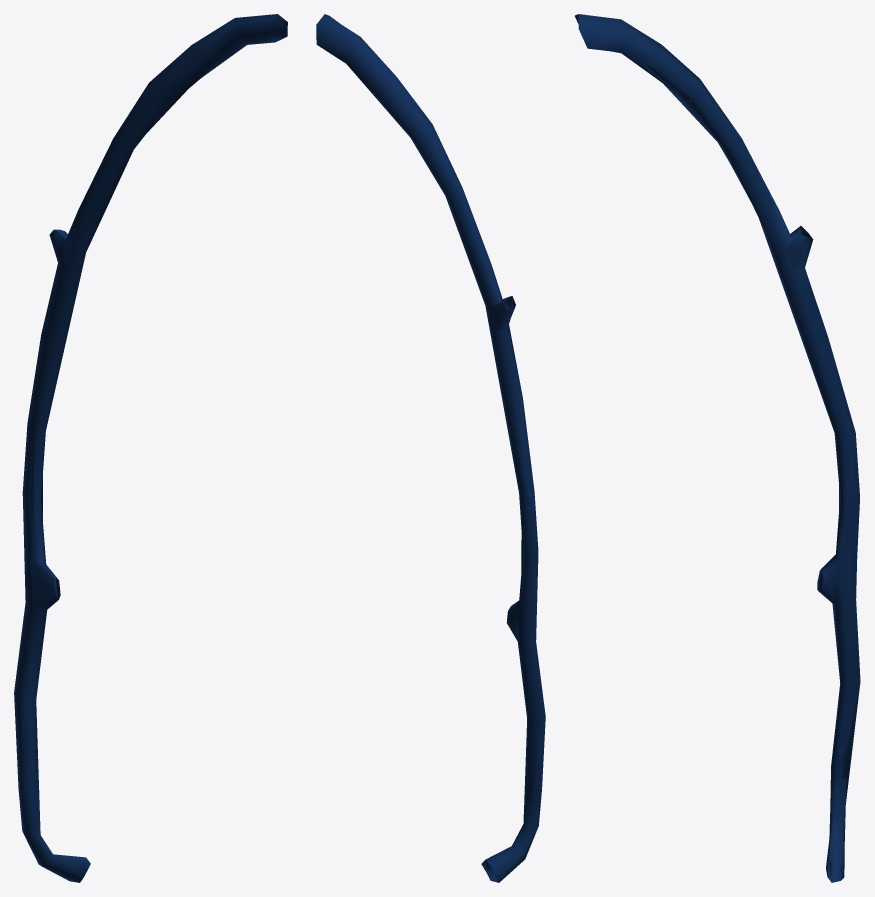
Rendered from R ramus palmaris vena medianae.fbx.
3 renders of one model, left to right at view 1: azimuth 30°, elevation 25°; view 2: azimuth 210°, elevation 25°; view 3: azimuth 270°, elevation 25°, orthographic. The views are drawn at different scales.
Visible parts, largest first — view 1: R ramus palmaris vena medianae, R ramus palmaris vena medianae low; view 2: R ramus palmaris vena medianae, R ramus palmaris vena medianae low; view 3: R ramus palmaris vena medianae, R ramus palmaris vena medianae low.
Part boxes in pixels (x1=…): R ramus palmaris vena medianae: x1=14, y1=14, x2=287, y2=882; R ramus palmaris vena medianae low: x1=21, y1=14, x2=286, y2=855; R ramus palmaris vena medianae: x1=316, y1=14, x2=545, y2=882; R ramus palmaris vena medianae low: x1=325, y1=18, x2=541, y2=881; R ramus palmaris vena medianae: x1=575, y1=14, x2=860, y2=882; R ramus palmaris vena medianae low: x1=575, y1=14, x2=860, y2=881.
Size of the model in its own units: 1.71 by 11.67 by 3.37.
